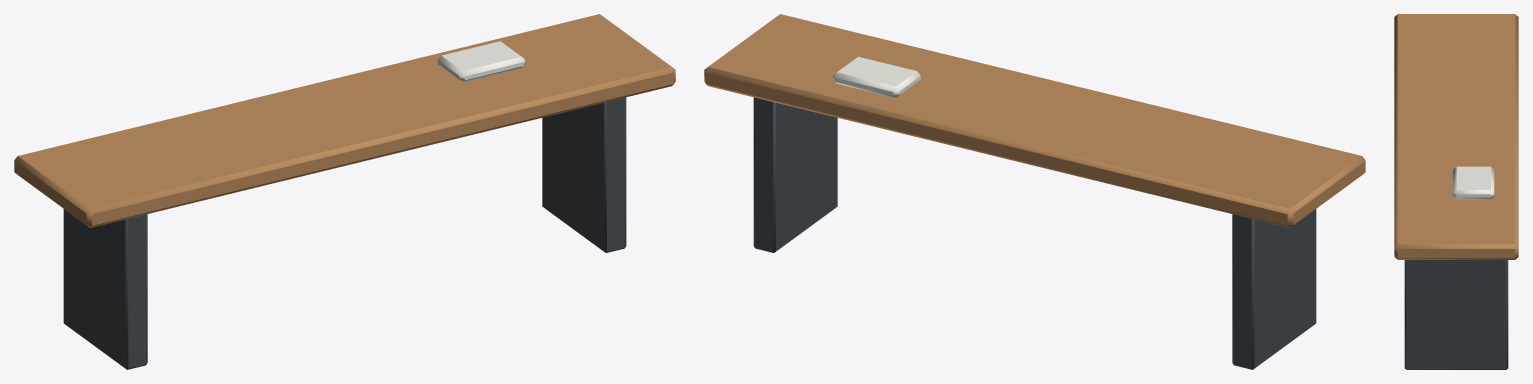
File: locker_bench.glb
The picture shows the model from 3 angles, left to right: view 1: azimuth 30°, elevation 25°; view 2: azimuth 150°, elevation 25°; view 3: azimuth 270°, elevation 25°; orthographic projection. The views are drawn at different scales.
Visible parts, largest first — view 1: LockerBench; view 2: LockerBench; view 3: LockerBench.
Boxes of the visible parts, box(x1,y1,x2,y2) form: LockerBench: box(14, 14, 675, 369); LockerBench: box(704, 14, 1365, 369); LockerBench: box(1394, 14, 1518, 369).
Bounding box in the file's own units: 1.6 × 0.485 × 0.36.
